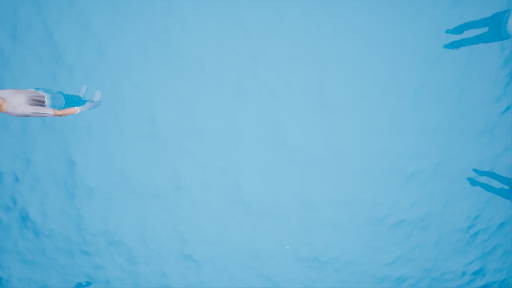person: (1, 73, 106, 127)
